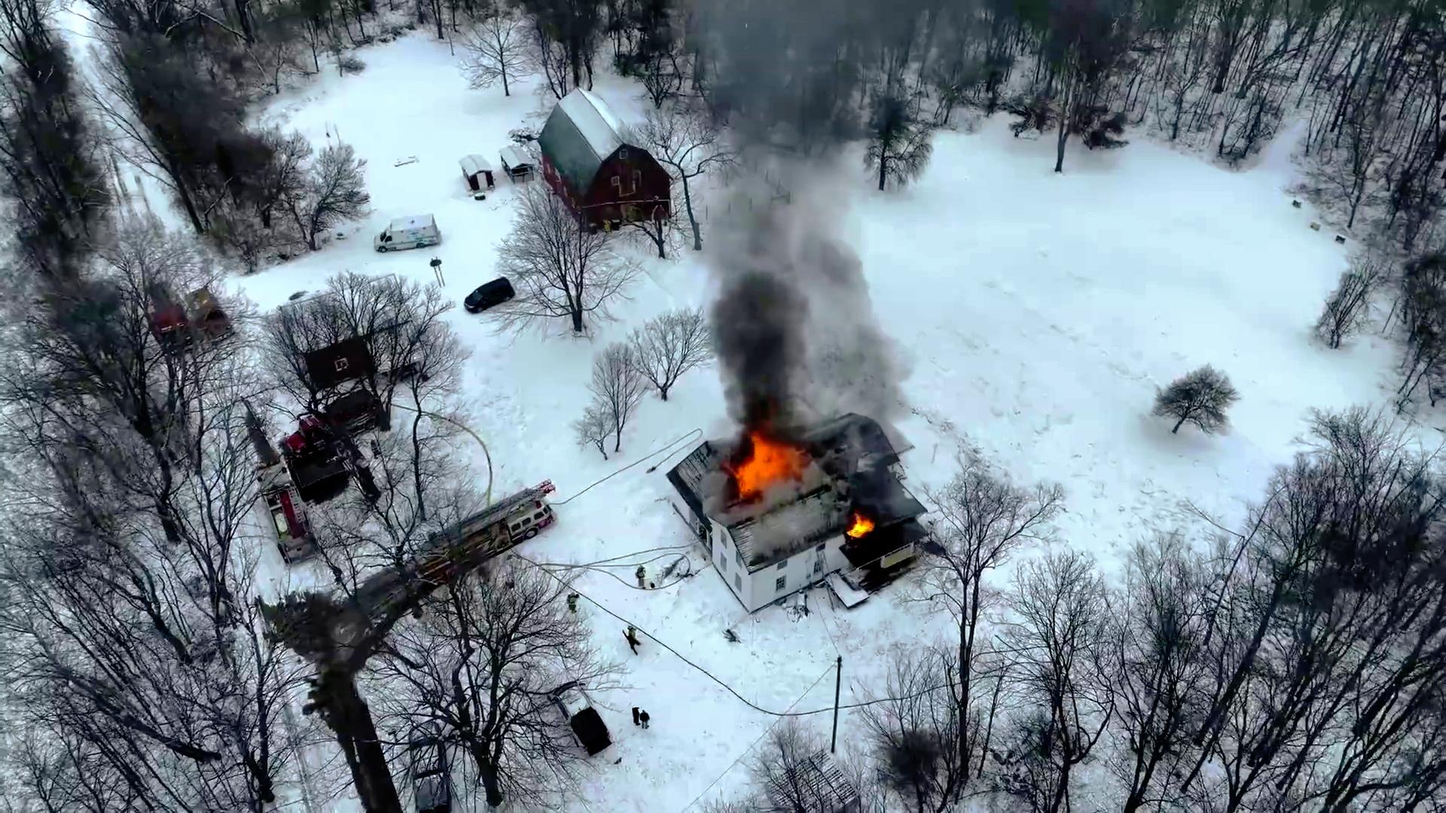fire: (733, 439, 796, 494), (857, 516, 879, 547)
smoke: (729, 286, 799, 431)
